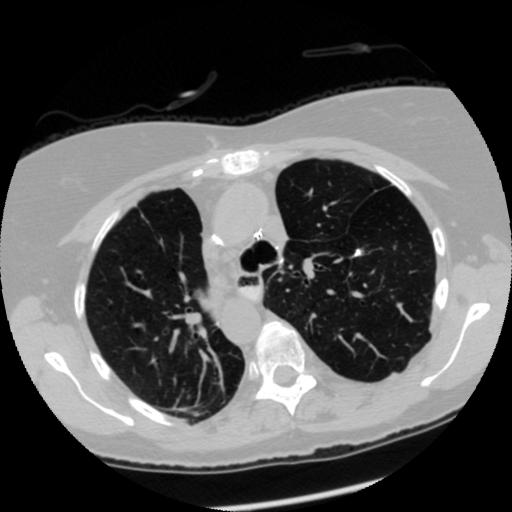nodule: (352, 245, 368, 261)
